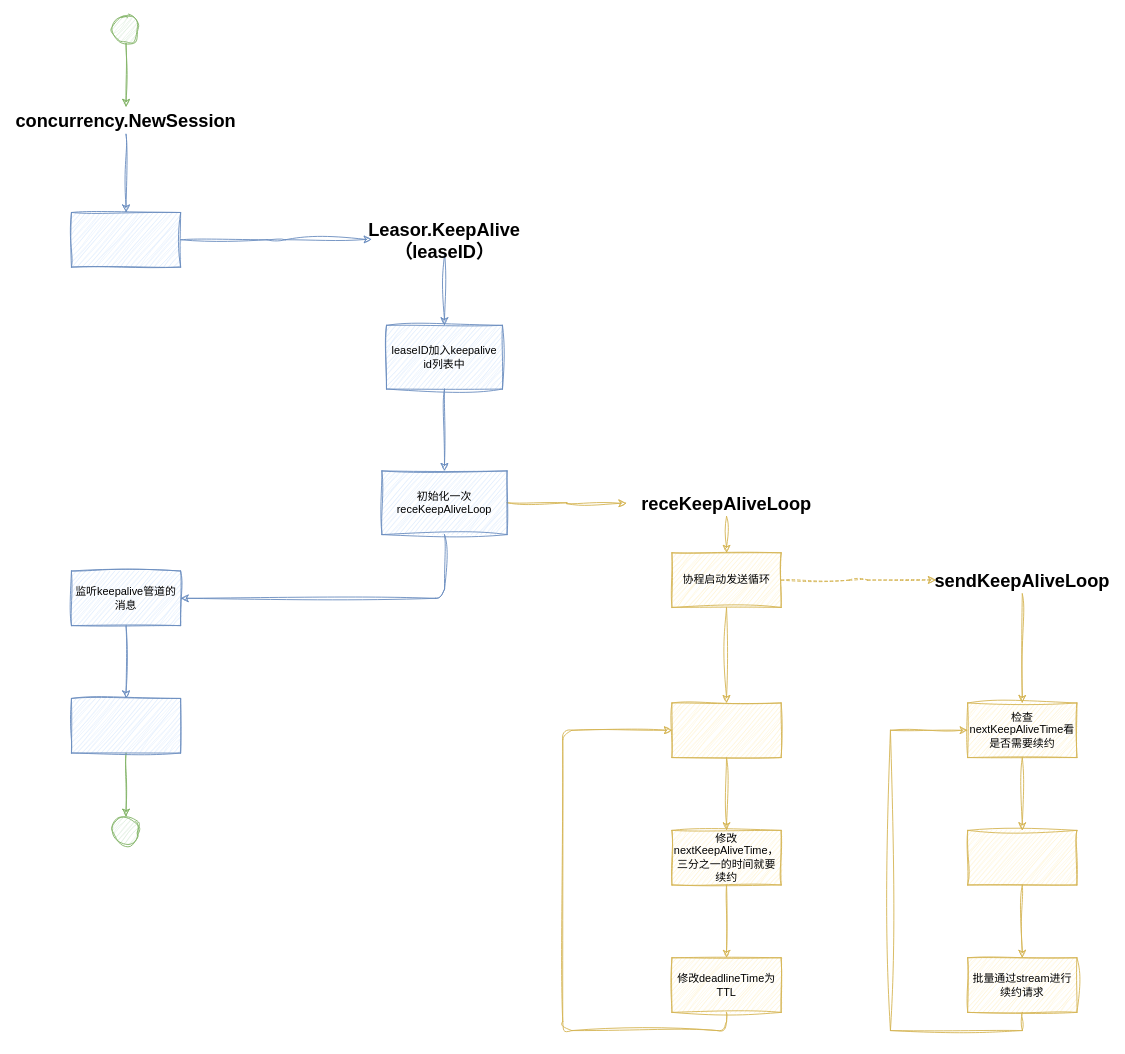
Some shapes in this 1125 by 1054 pixel diagram are drawn without their labels. The centre of each missing label's shape, as x and y in pixels:
stream接受响应数据: [726,730]
创建session: [126,239]
加入到tosend 队列里面: [1022,857]
返回session: [126,725]
